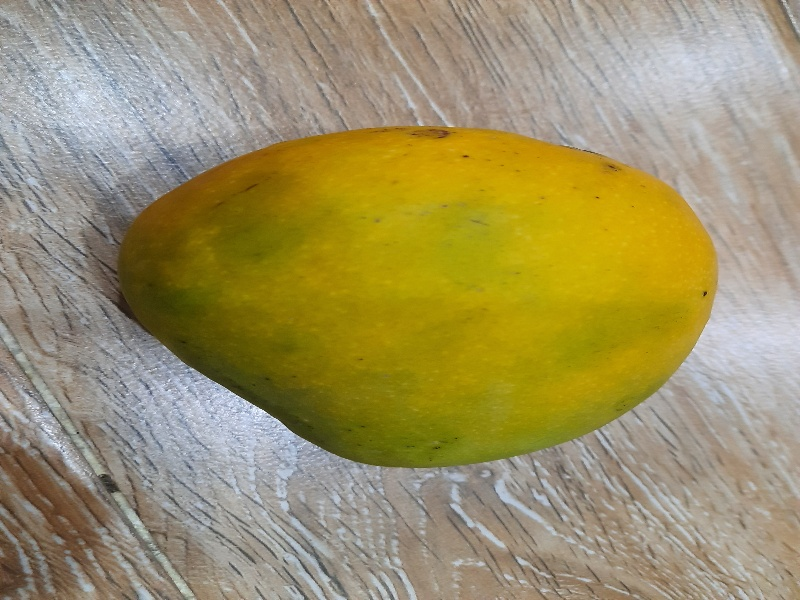fruit: (105, 123, 717, 467)
